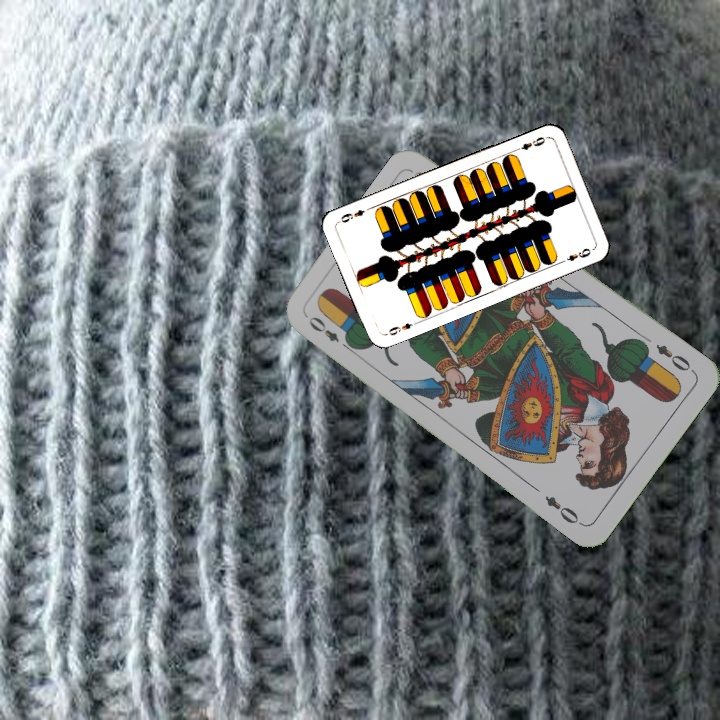E9: (510, 133, 549, 155), (381, 317, 421, 338)
EO: (304, 312, 355, 354), (651, 340, 697, 375)
